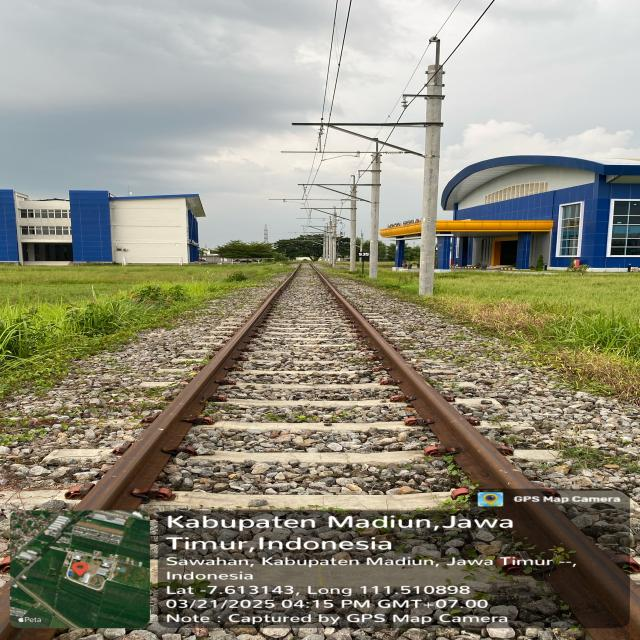rail-detection: (309, 262, 640, 640), (75, 262, 301, 510)
